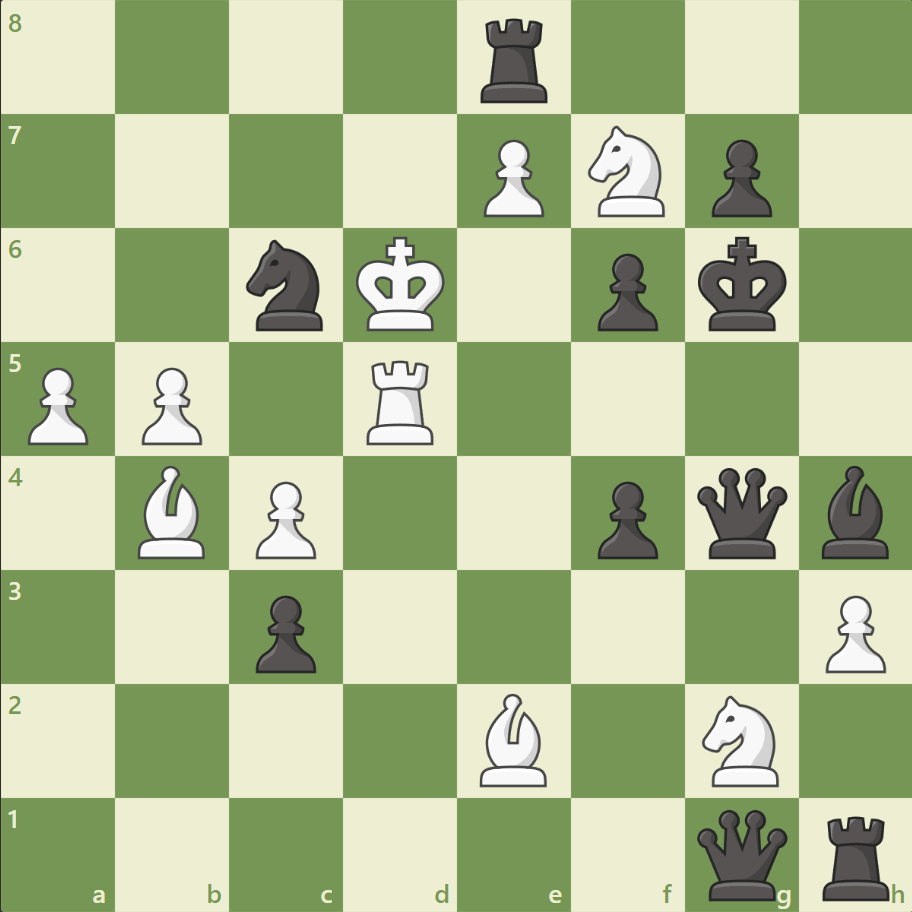B: (131, 460, 215, 563), (471, 687, 555, 790)
K: (351, 231, 451, 339)
N: (692, 688, 789, 791), (579, 121, 676, 223)
P: (474, 132, 549, 223), (20, 359, 95, 450), (133, 359, 208, 450), (247, 473, 322, 564), (815, 586, 889, 677)
R: (360, 352, 442, 449)
b: (812, 460, 896, 563)
k: (692, 231, 792, 339)
n: (238, 234, 335, 337)
p: (701, 132, 776, 223), (247, 586, 322, 677), (588, 246, 662, 337), (588, 473, 662, 564)
q: (691, 463, 790, 562), (691, 804, 790, 903)
r: (814, 806, 897, 904), (473, 12, 556, 109)
